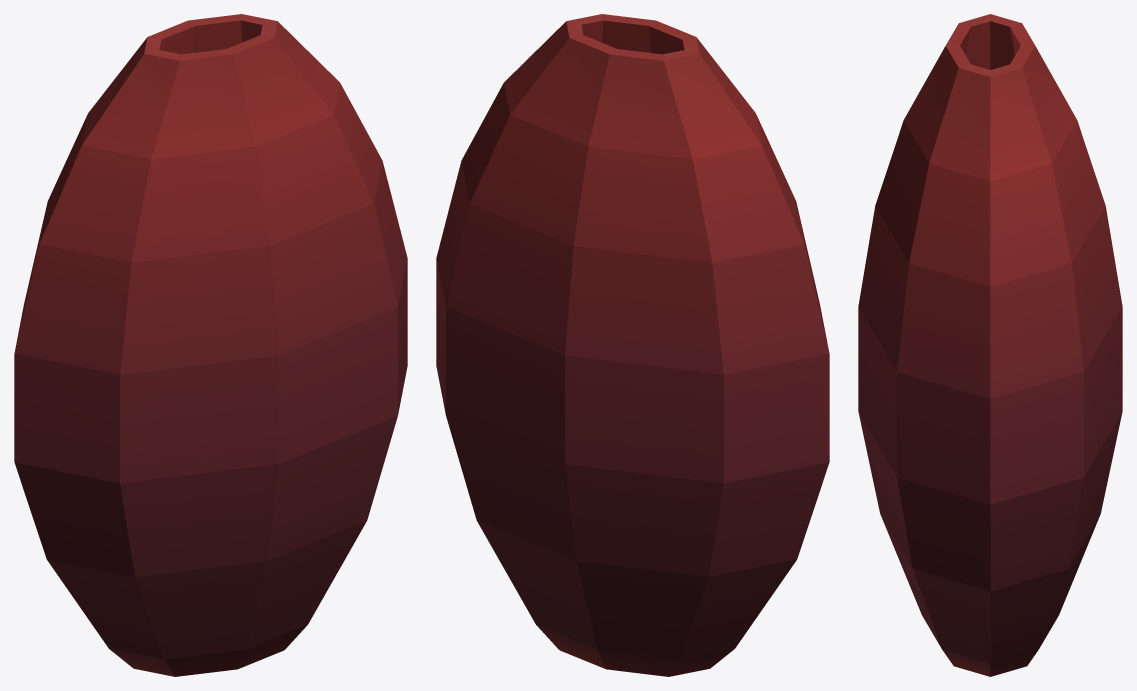
Rendered from Prop_VaseG.fbx.
3 views of the same model, side by side, from view 1: azimuth 30°, elevation 25°; view 2: azimuth 150°, elevation 25°; view 3: azimuth 270°, elevation 25° (orthographic). The views are drawn at different scales.
Visible parts, largest first — view 1: Prop_VaseG; view 2: Prop_VaseG; view 3: Prop_VaseG.
Boxes of the visible parts, <box> form: Prop_VaseG: <box>14,14,407,676</box>; Prop_VaseG: <box>436,14,829,676</box>; Prop_VaseG: <box>858,14,1122,676</box>.
Size of the model in its own units: 32.36 by 48.17 by 19.39.
